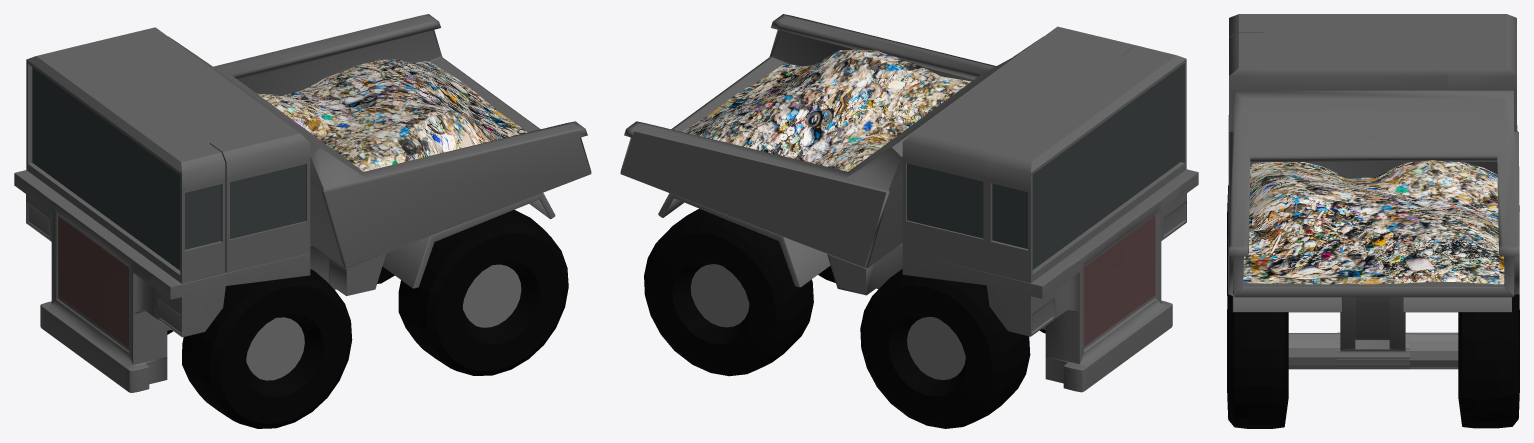
The model's file is truck_2.fbx.
The picture shows the model from 3 angles, left to right: view 1: azimuth 30°, elevation 25°; view 2: azimuth 150°, elevation 25°; view 3: azimuth 270°, elevation 25°; orthographic projection. The views are drawn at different scales.
Visible parts, largest first — view 1: polySurface21, polySurface93, polySurface92, polySurface89, pPlane1, polySurface88; view 2: polySurface21, polySurface93, polySurface91, polySurface90, pPlane1, polySurface78; view 3: polySurface93, pPlane1, polySurface21, polySurface92, polySurface91, polySurface88, polySurface78.
Part boxes in pixels (box(x1,y1,x2,y2)): polySurface21: box(14, 27, 386, 392); polySurface93: box(168, 14, 591, 268); polySurface92: box(398, 210, 568, 375); polySurface89: box(182, 269, 352, 428); pPlane1: box(257, 59, 527, 171); polySurface88: box(382, 193, 555, 288); polySurface21: box(827, 26, 1198, 392); polySurface93: box(620, 14, 1043, 268); polySurface91: box(644, 208, 813, 376); polySurface90: box(860, 269, 1030, 428); pPlane1: box(682, 49, 971, 171); polySurface78: box(658, 193, 830, 287); polySurface93: box(1228, 90, 1519, 297); pPlane1: box(1243, 160, 1504, 284); polySurface21: box(1228, 14, 1517, 351); polySurface92: box(1227, 292, 1409, 428); polySurface91: box(1337, 294, 1519, 428); polySurface88: box(1232, 296, 1341, 312); polySurface78: box(1403, 297, 1511, 312).
Bounding box in the file's own units: 649 × 416 × 413.
Materials: 7 (1 with a texture image).
